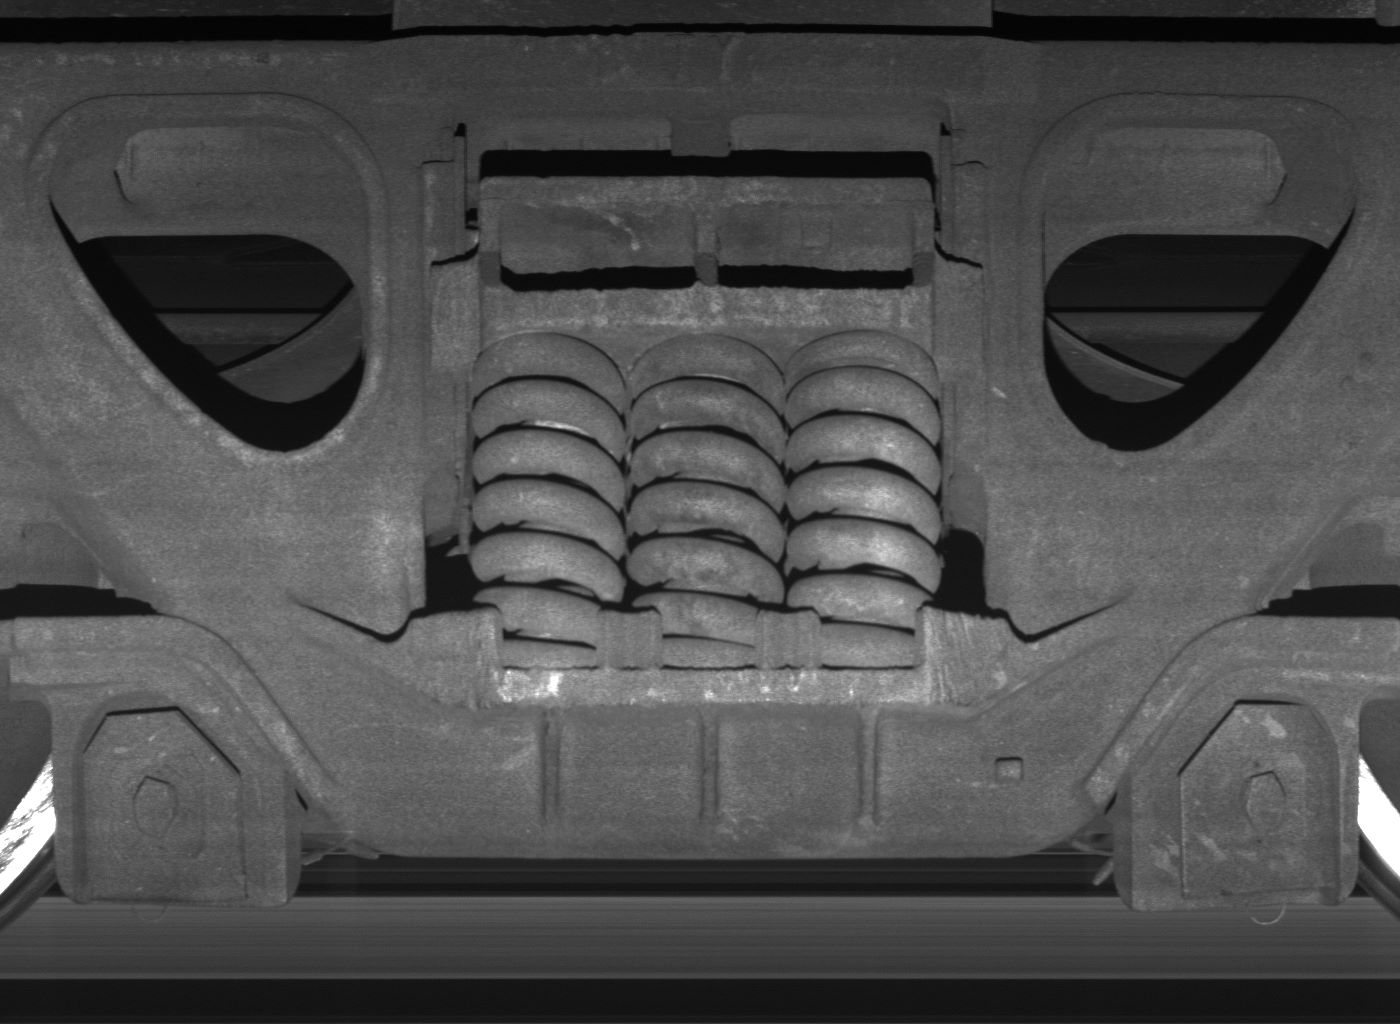normal: (1136, 673, 1359, 913), (61, 682, 290, 907)
